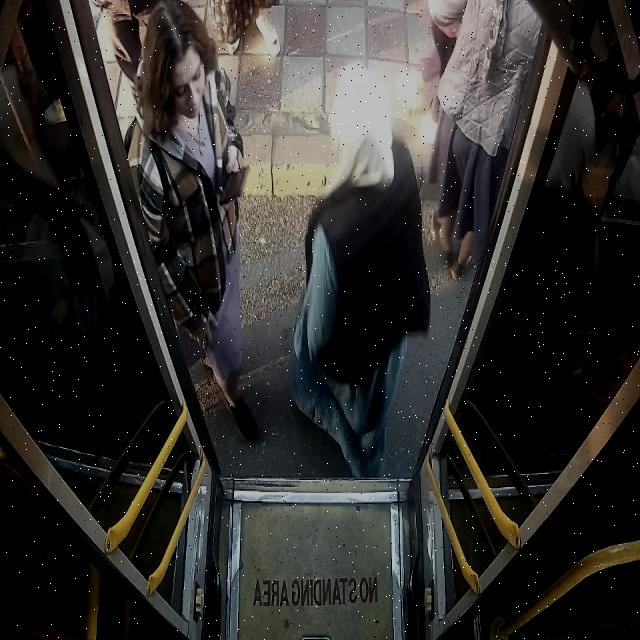open: (61, 1, 563, 487)
